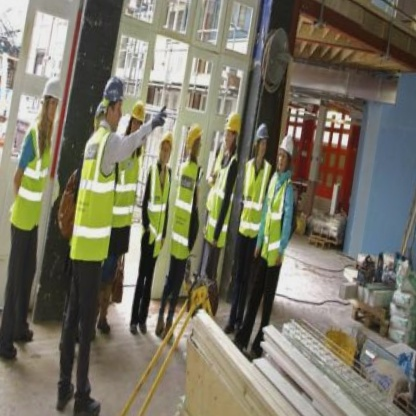blue: (102, 69, 133, 105), (254, 119, 274, 143)
vest: (63, 118, 131, 268), (8, 108, 65, 228), (164, 151, 210, 270), (200, 143, 244, 247), (134, 154, 177, 260), (256, 167, 299, 271), (233, 152, 276, 240), (108, 134, 147, 230)
white: (41, 70, 66, 104), (278, 126, 300, 160)
yellow: (184, 118, 206, 156), (222, 109, 246, 139), (159, 124, 180, 153), (132, 94, 149, 122)
